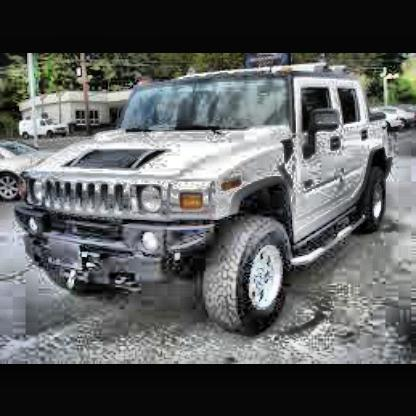HUMMER H2 SUT Crew Cab 2009: (15, 71, 395, 340)
